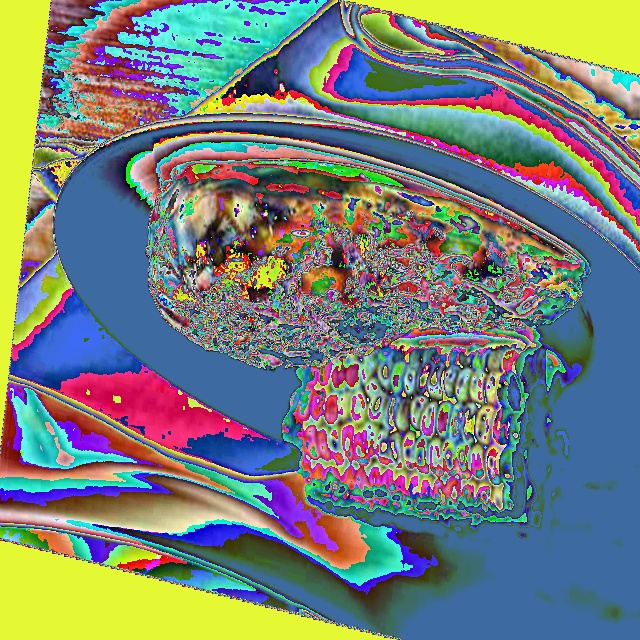background: (145, 162, 591, 542)
